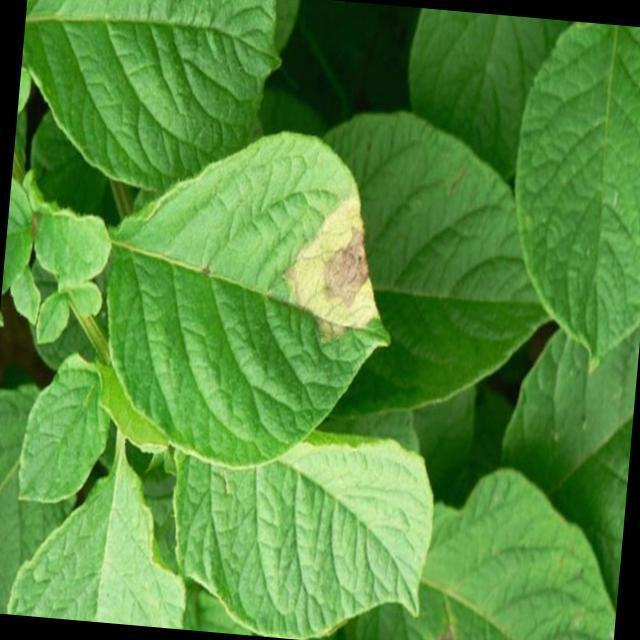Healthy Leaf: (156, 409, 446, 640), (16, 0, 281, 196), (499, 20, 640, 367), (12, 360, 112, 518)
